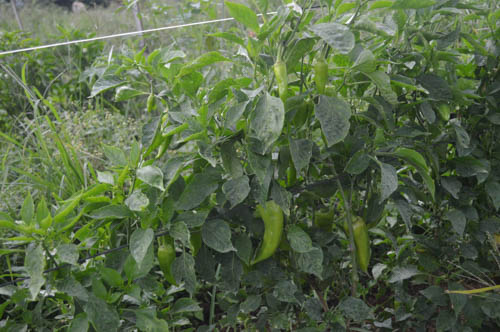ChiliPepper: (248, 198, 285, 270), (348, 215, 379, 275), (151, 242, 184, 287), (308, 54, 332, 102), (272, 57, 293, 102), (311, 207, 337, 238)
